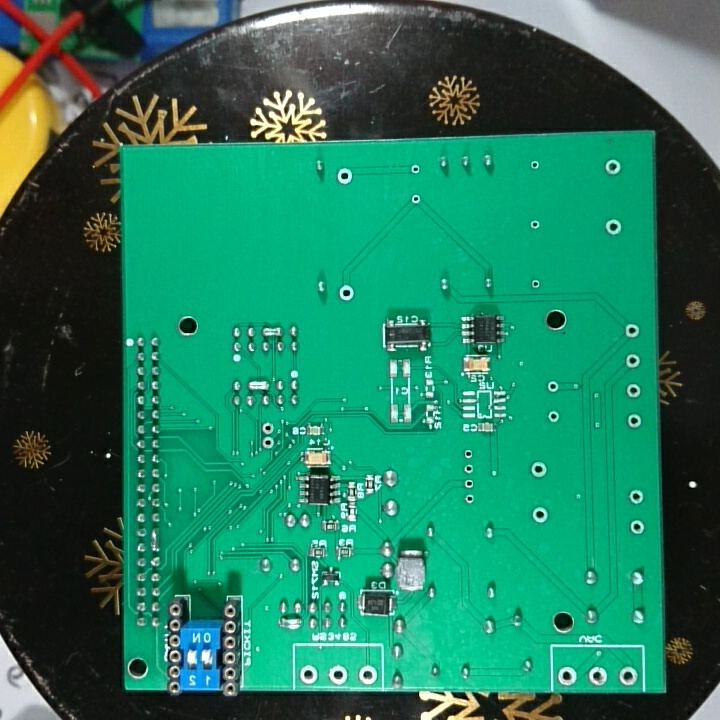F: (586, 663, 611, 689), (354, 663, 380, 687), (325, 663, 351, 686), (626, 484, 649, 508), (617, 664, 639, 689), (297, 663, 320, 686), (557, 665, 580, 687), (334, 165, 357, 185), (528, 460, 550, 480), (623, 380, 643, 402), (621, 320, 643, 340), (337, 282, 356, 305), (528, 506, 551, 525), (623, 412, 646, 431), (604, 218, 625, 238), (602, 158, 622, 178), (622, 352, 642, 370), (628, 518, 645, 538), (545, 379, 563, 397), (547, 409, 563, 427), (258, 420, 277, 435), (527, 156, 542, 173), (259, 435, 276, 450), (528, 218, 545, 233), (408, 192, 425, 207), (462, 493, 478, 508), (461, 476, 477, 491), (408, 160, 422, 177), (462, 462, 477, 477), (528, 277, 542, 291), (462, 447, 474, 461)
P: (277, 616, 304, 633), (245, 377, 272, 392), (149, 526, 161, 555), (261, 325, 283, 340)
